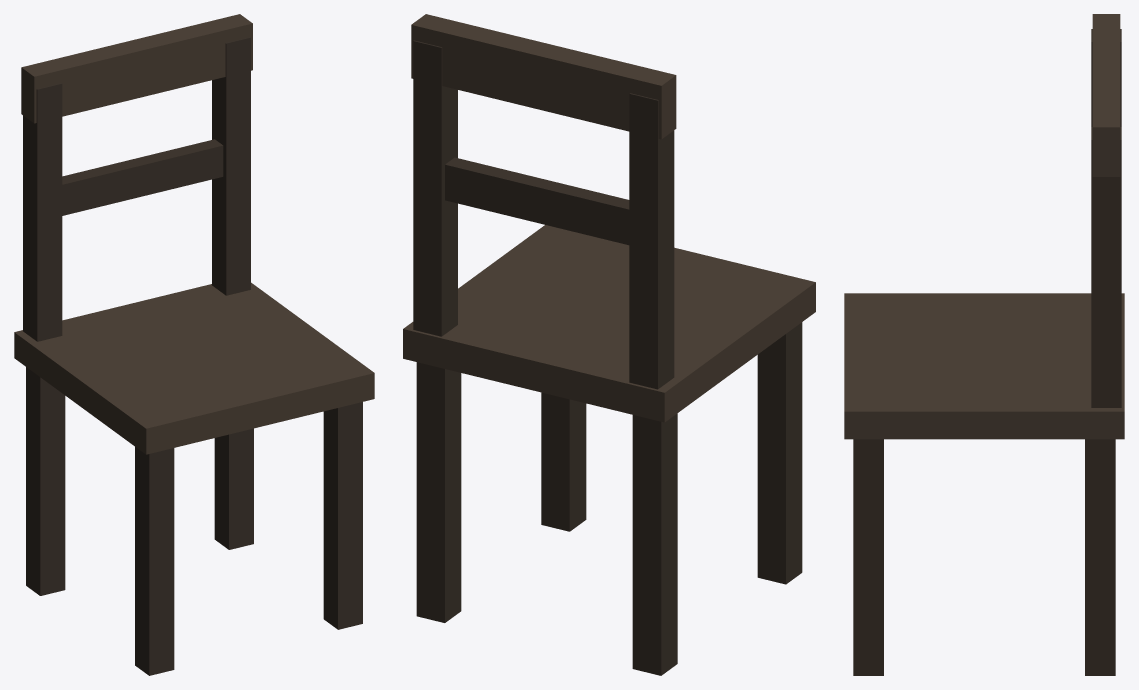
Rendered from chair_noir.glb.
3 renders of one model, left to right at view 1: azimuth 30°, elevation 25°; view 2: azimuth 150°, elevation 25°; view 3: azimuth 270°, elevation 25°, orthographic. The views are drawn at different scales.
Parts seen in each view (by area): view 1: chair_noir; view 2: chair_noir; view 3: chair_noir.
Boxes of the visible parts, x1=… form: chair_noir: x1=14, y1=14, x2=374, y2=675; chair_noir: x1=403, y1=14, x2=815, y2=675; chair_noir: x1=844, y1=14, x2=1124, y2=675.
Size of the model in its own units: 0.46 by 0.995 by 0.46.
